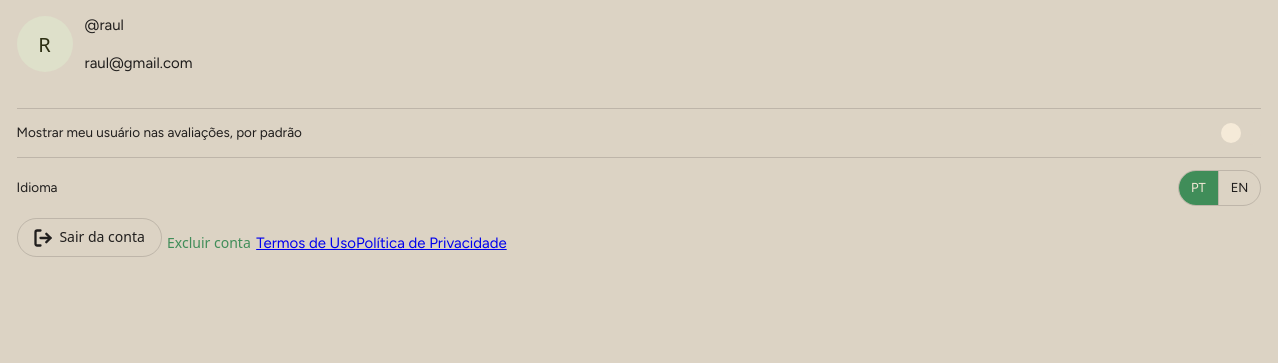
Test: clicking delete account shows a confirmation prompt
This screenshot has width=1278, height=363.
Click the button "Excluir conta".
click(209, 243)  # box x1=162 y1=225 x2=256 y2=261
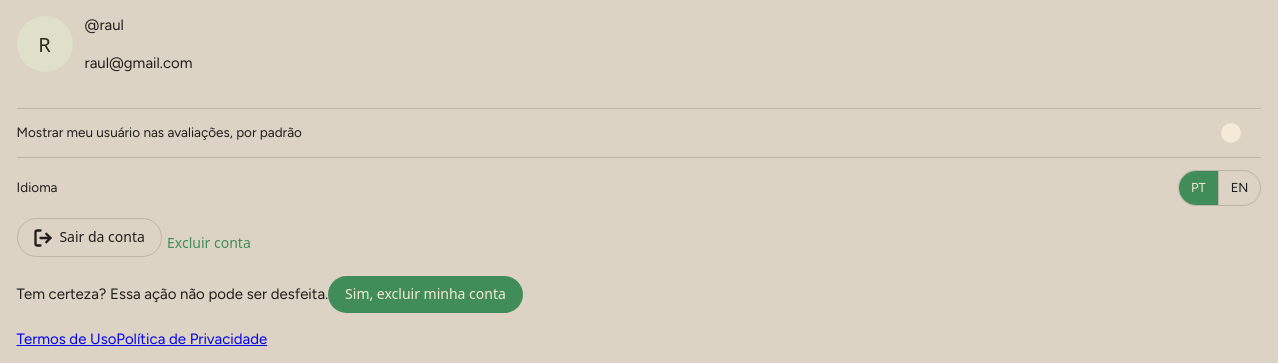
Check: the text "Tem certeza? Essa ação não pode ser desfeita." is shown, box x1=17 y1=285 x2=328 y2=303
